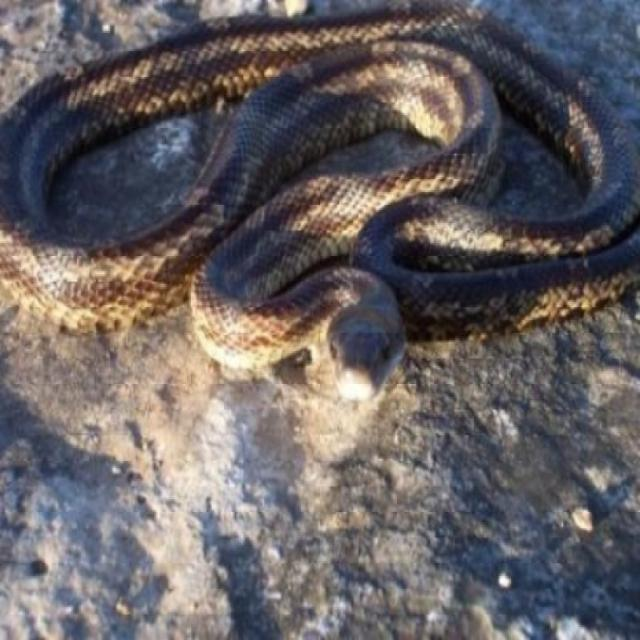Snake: (2, 7, 640, 406)
